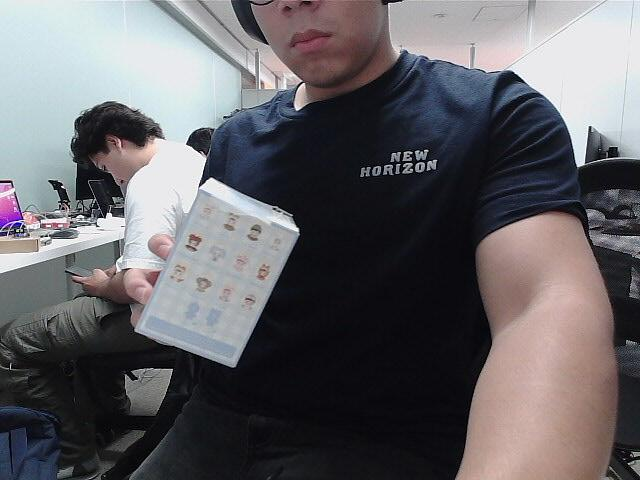Blind_box: (135, 179, 299, 372)
